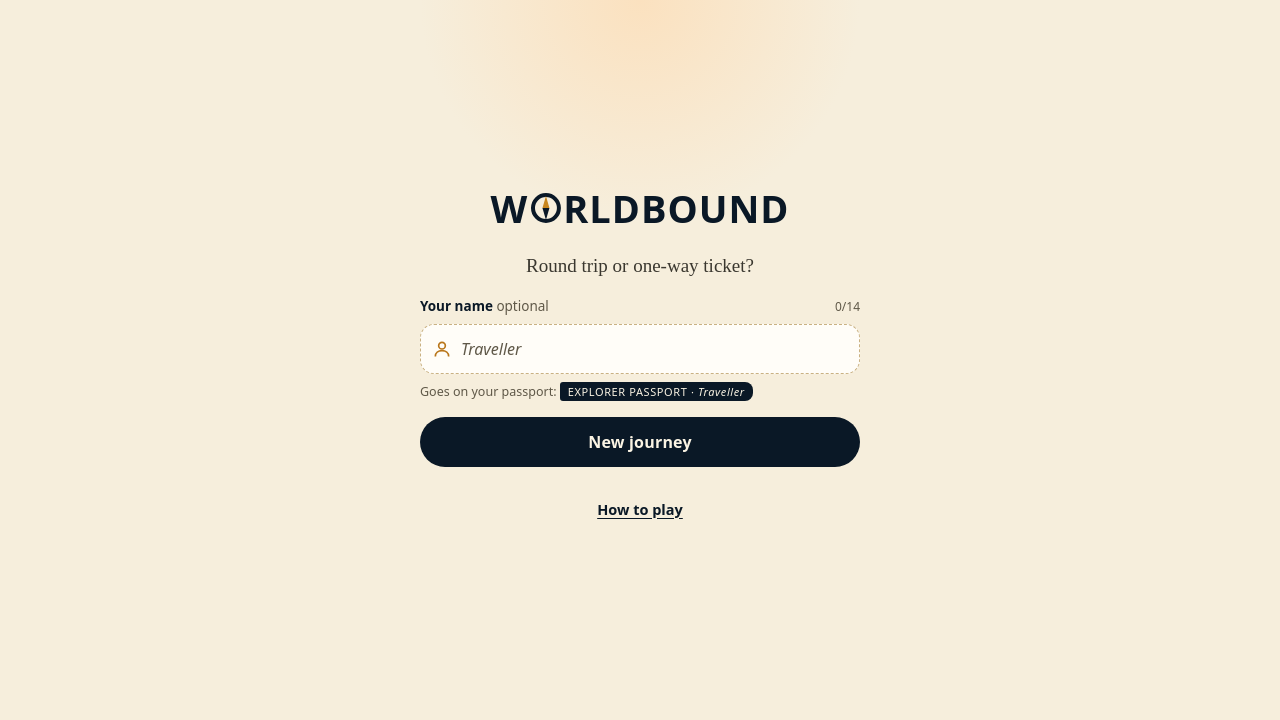
Scenario: Story 1.5 / FR-2 first-time intro › AC2: the intro reopens from the menu and goes back to the journey
The width and height of the screenshot is (1280, 720).
Later steps or results of the test are not shown.
Click the button "New journey": click(640, 442) [420, 417, 860, 467]
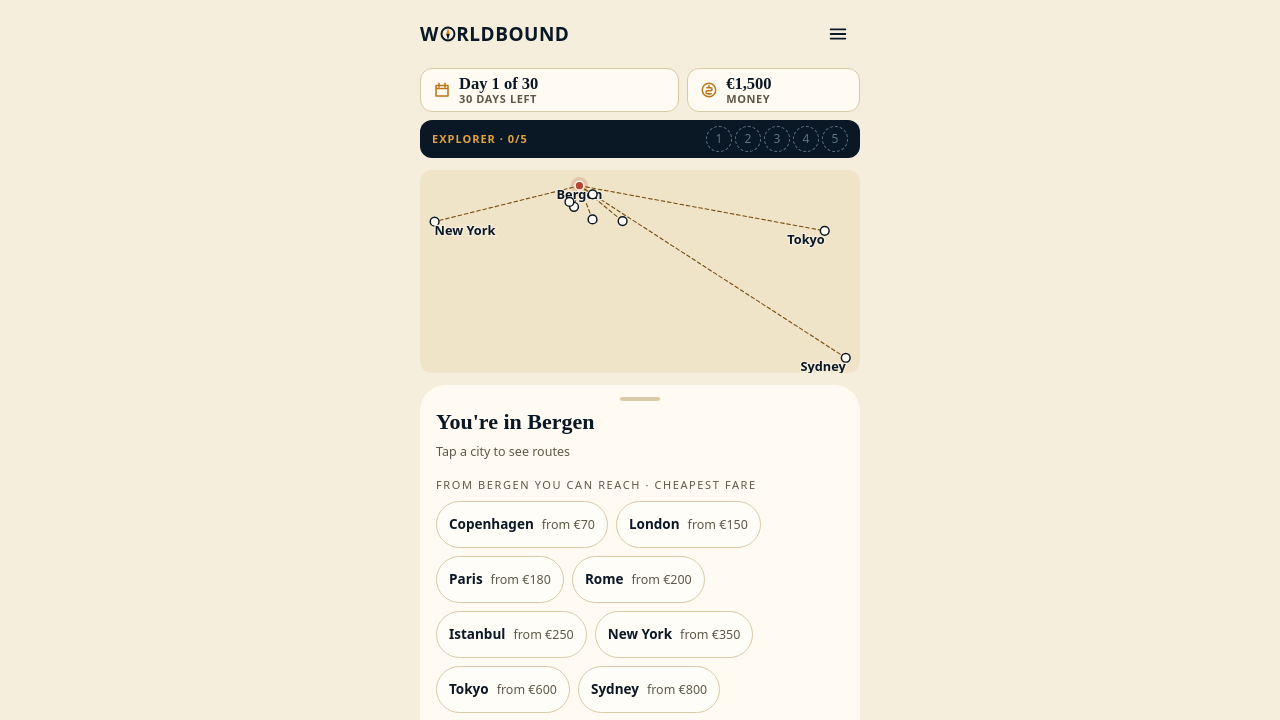
Click the button named "Menu": click(838, 34) [816, 12, 860, 56]
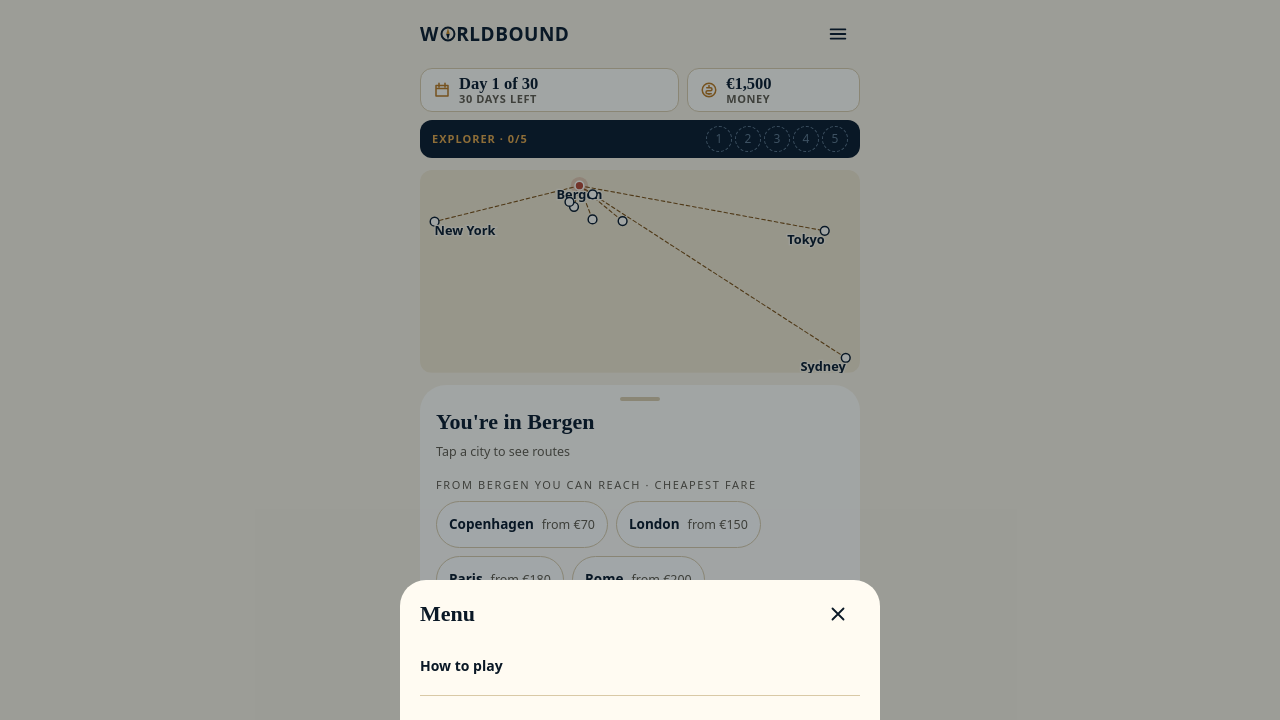
Click the button "How to play": click(461, 666) [420, 636, 860, 696]
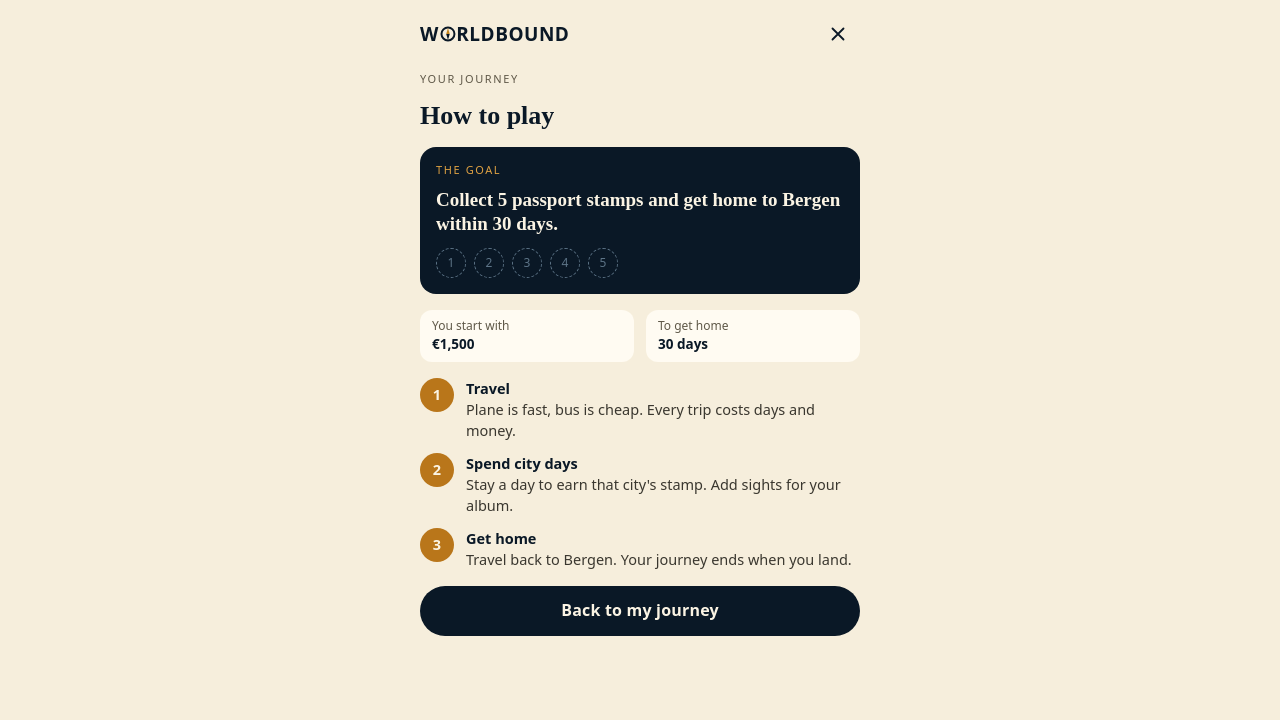
Check: the heading "How to play" is shown, box [420, 101, 554, 130]
Check: the button named "Close" is shown, box [816, 12, 860, 56]
